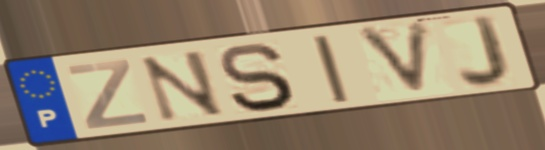I: (307, 32, 354, 106)
J: (455, 13, 514, 90)
N: (137, 47, 229, 125)
S: (215, 41, 299, 114)
V: (352, 17, 435, 100)
Z: (63, 57, 152, 132)
